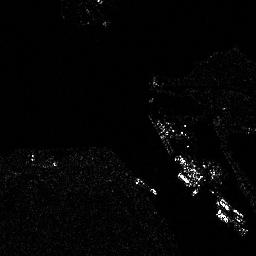ship: (215, 207, 248, 237), (175, 171, 201, 196), (136, 176, 157, 195)
